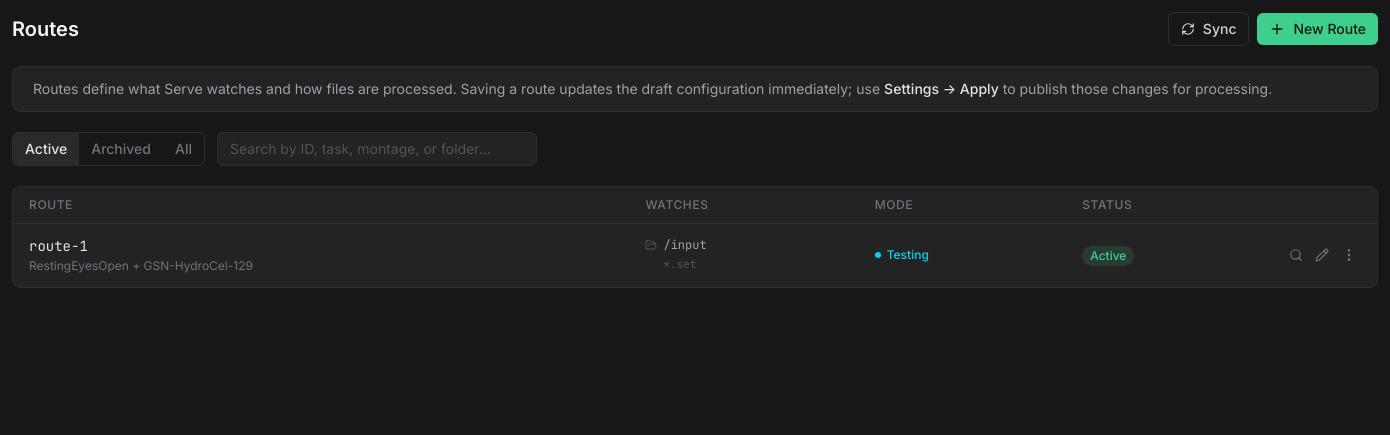
Scenario: Routes page actions › shows action errors instead of success notice when an action fails
The image size is (1390, 435).
Click the button named "Open actions for route route-1".
click(1349, 255)  # box [1337,243,1361,267]
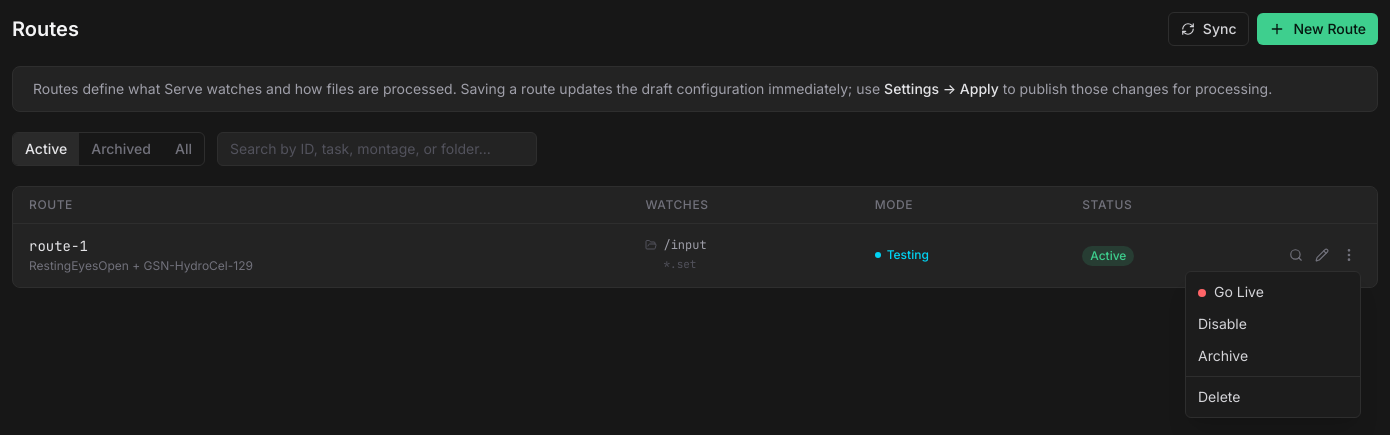
Click the button "Disable".
click(1273, 324)  # box [1186,308,1360,340]
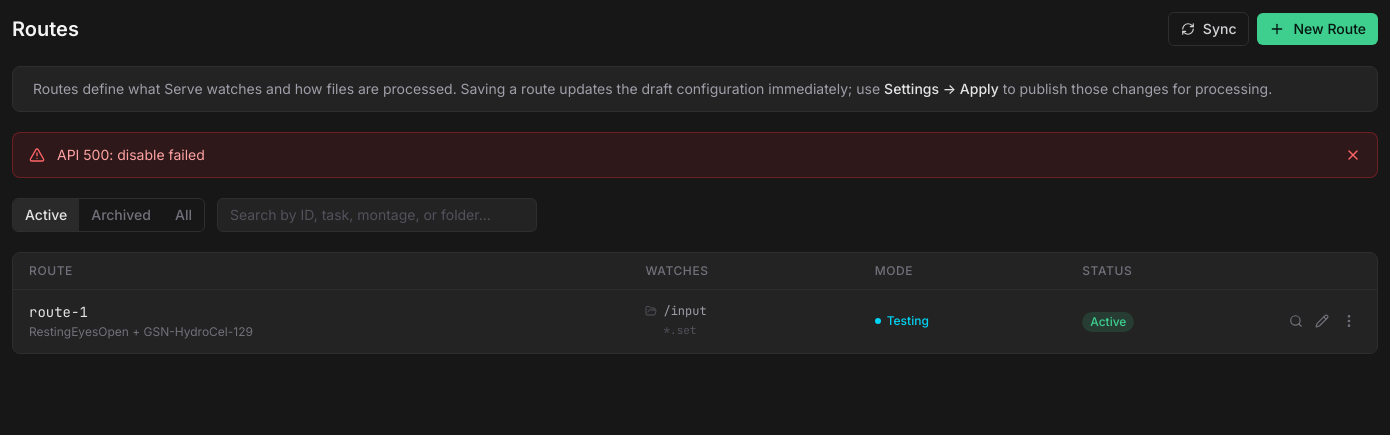
Result: the text "API 500: disable failed" is shown at [57,146,205,163]
